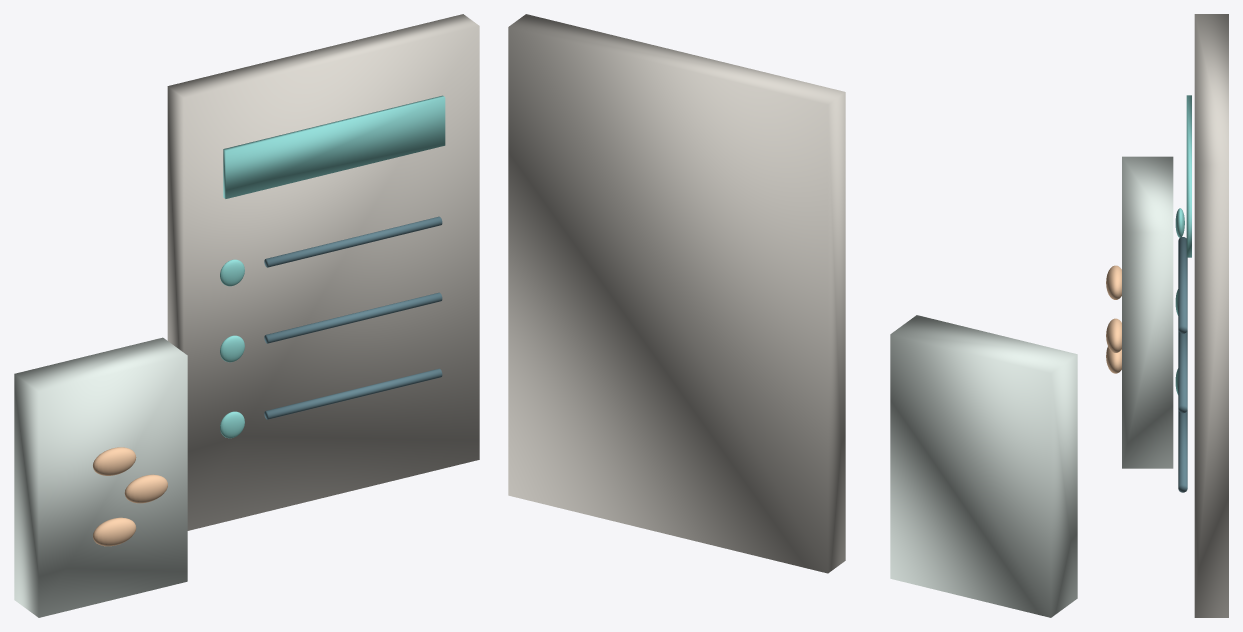
Rendered from safety-weightpills.glb.
3 views of the same model, side by side, from view 1: azimuth 30°, elevation 25°; view 2: azimuth 150°, elevation 25°; view 3: azimuth 270°, elevation 25° (orthographic). The views are drawn at different scales.
Parts seen in each view (by area): view 1: static #eee5d3, static #c7ddd2, static #49bdb4, static #203c48, static #f2a066; view 2: static #eee5d3, static #c7ddd2; view 3: static #eee5d3, static #c7ddd2, static #203c48, static #49bdb4, static #f2a066.
Boxes of the visible parts, x1=… form: static #eee5d3: x1=167, y1=14, x2=479, y2=530; static #c7ddd2: x1=14, y1=337, x2=187, y2=617; static #49bdb4: x1=220, y1=95, x2=445, y2=438; static #203c48: x1=264, y1=216, x2=442, y2=419; static #f2a066: x1=93, y1=447, x2=167, y2=546; static #eee5d3: x1=508, y1=14, x2=845, y2=573; static #c7ddd2: x1=890, y1=315, x2=1077, y2=617; static #eee5d3: x1=1194, y1=14, x2=1228, y2=617; static #c7ddd2: x1=1122, y1=156, x2=1173, y2=468; static #203c48: x1=1178, y1=237, x2=1187, y2=492; static #49bdb4: x1=1175, y1=95, x2=1191, y2=394; static #f2a066: x1=1106, y1=265, x2=1121, y2=373.
Bounding box in the file's own units: 0.2685 × 0.243 × 0.0575.
